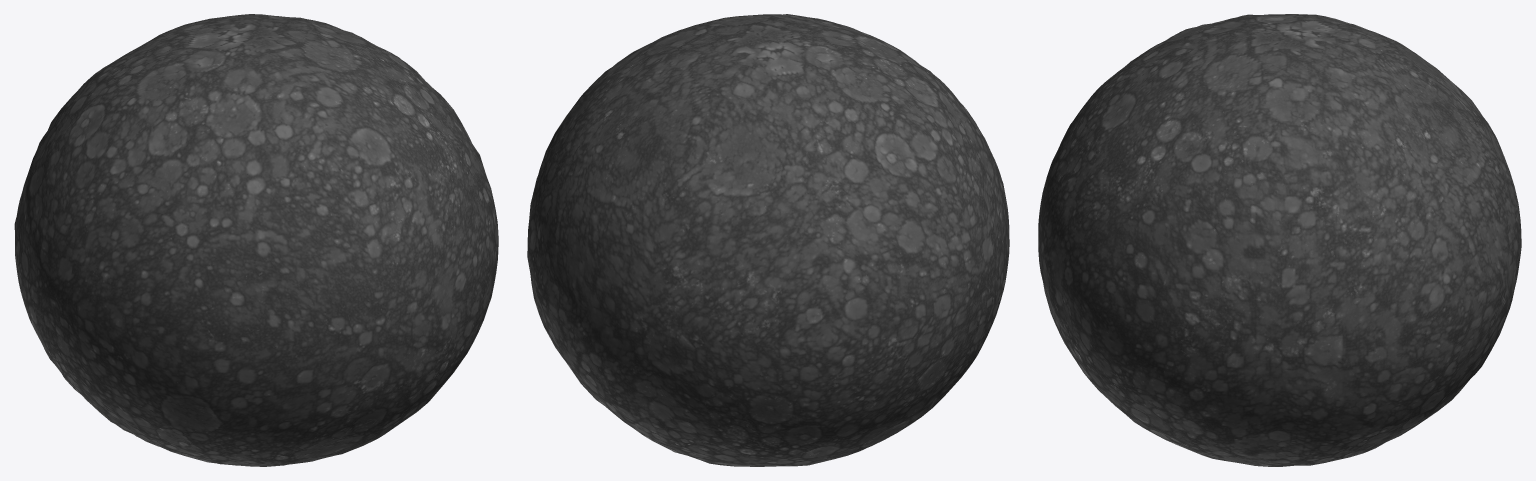
File: moon.glb
3 renders of one model, left to right at view 1: azimuth 30°, elevation 25°; view 2: azimuth 150°, elevation 25°; view 3: azimuth 270°, elevation 25°, orthographic.
Parts seen in each view (by area): view 1: CeresLP; view 2: CeresLP; view 3: CeresLP.
Boxes of the visible parts, bbox=[...] form: CeresLP: bbox=[14, 14, 498, 466]; CeresLP: bbox=[527, 14, 1009, 466]; CeresLP: bbox=[1038, 14, 1521, 466].
Size of the model in its own units: 9.68 by 8.96 by 9.66.
Materials: 1 (1 with a texture image).
